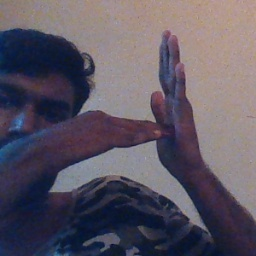Z: (98, 30, 206, 175)
